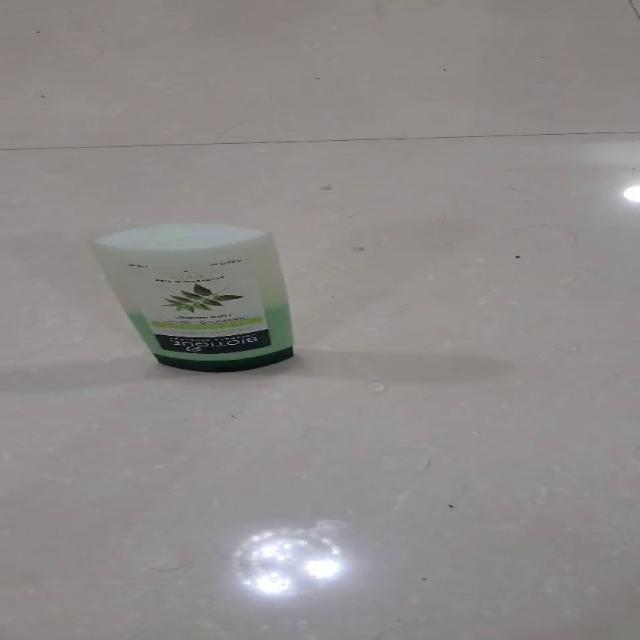plastic: (88, 221, 294, 373)
